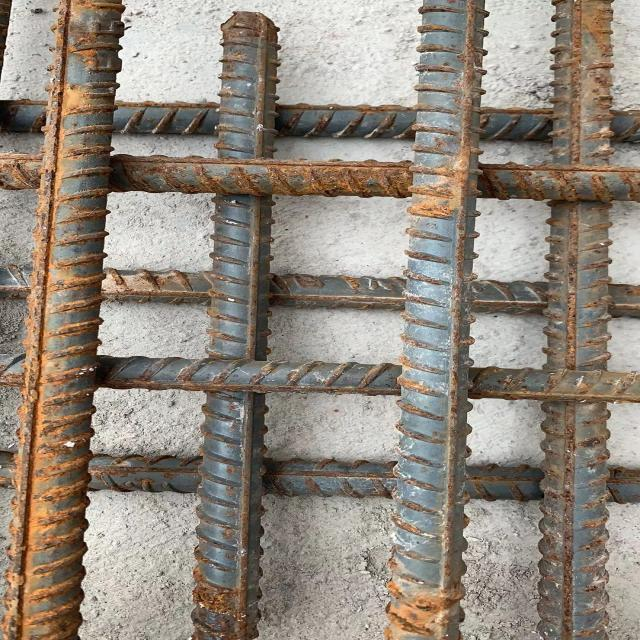ribbed bar: (0, 0, 128, 639), (378, 0, 491, 639), (185, 13, 281, 639), (532, 0, 618, 639), (0, 448, 639, 505), (0, 265, 639, 321), (0, 151, 639, 206), (0, 352, 639, 405), (0, 98, 639, 146)
